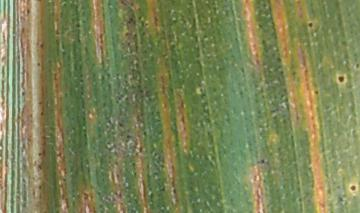tarspot: (334, 72, 348, 86), (310, 86, 322, 98), (348, 183, 358, 195), (306, 19, 314, 30), (258, 156, 267, 165)
